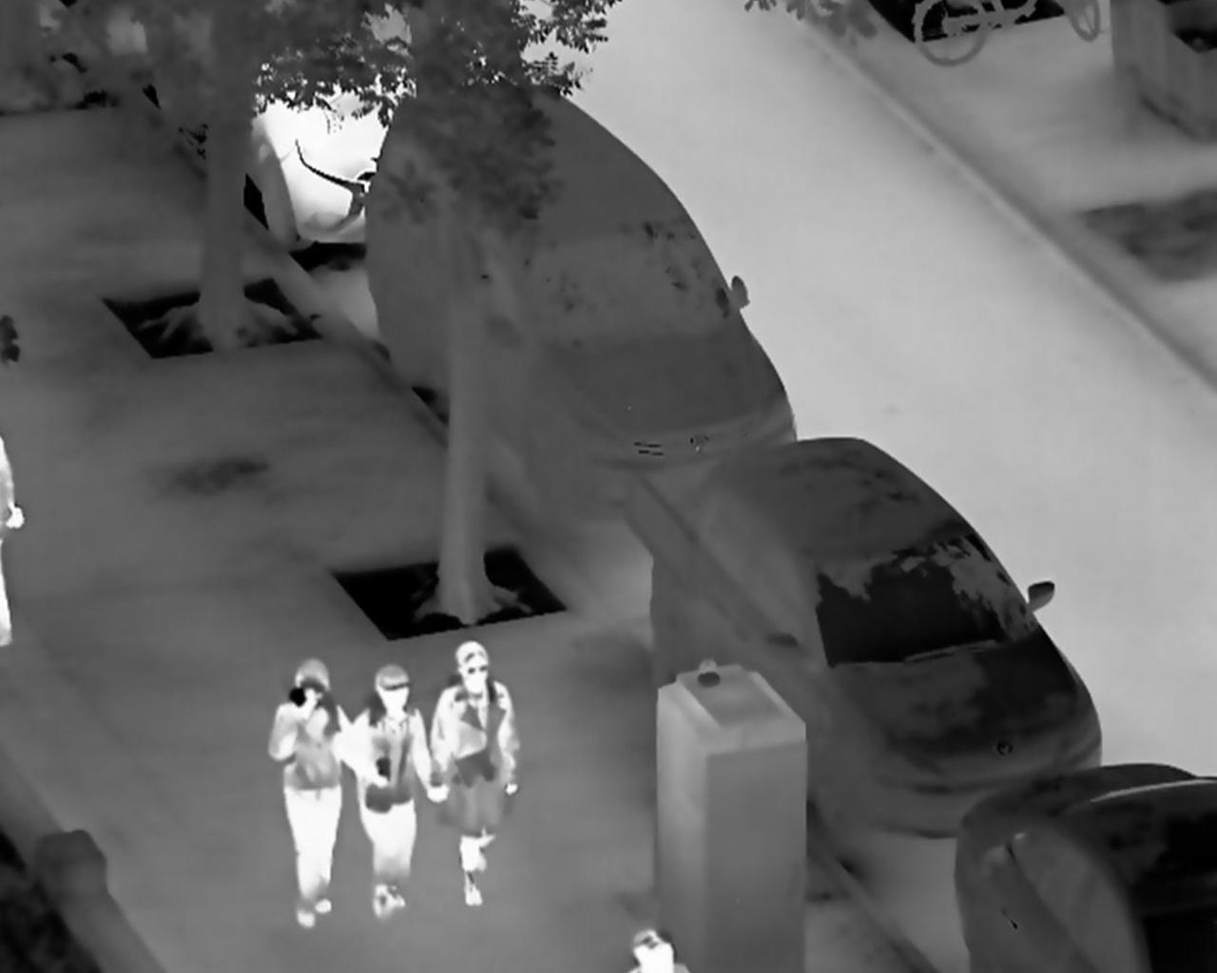person: (342, 662, 446, 921), (426, 638, 522, 912), (264, 654, 350, 927)
